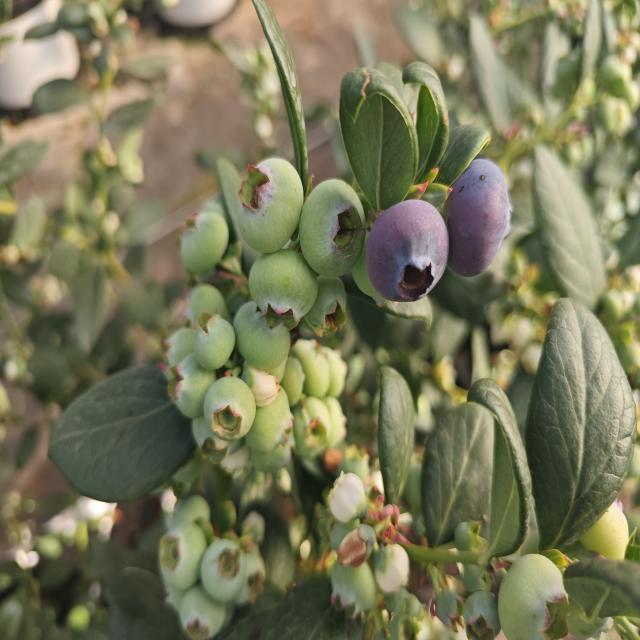ripe: (364, 199, 450, 303), (450, 160, 514, 289)
